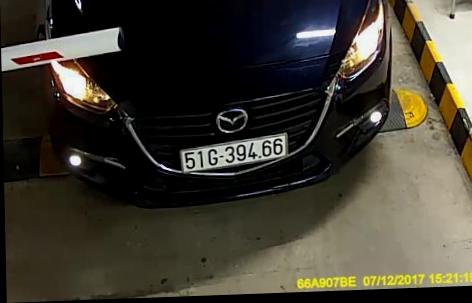License_Plate: (172, 133, 295, 175)
